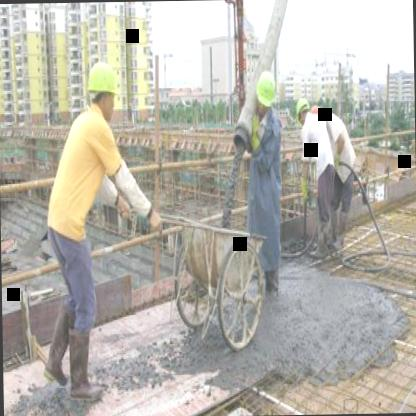helmet: (82, 58, 122, 124), (254, 69, 277, 114), (294, 96, 310, 129)
